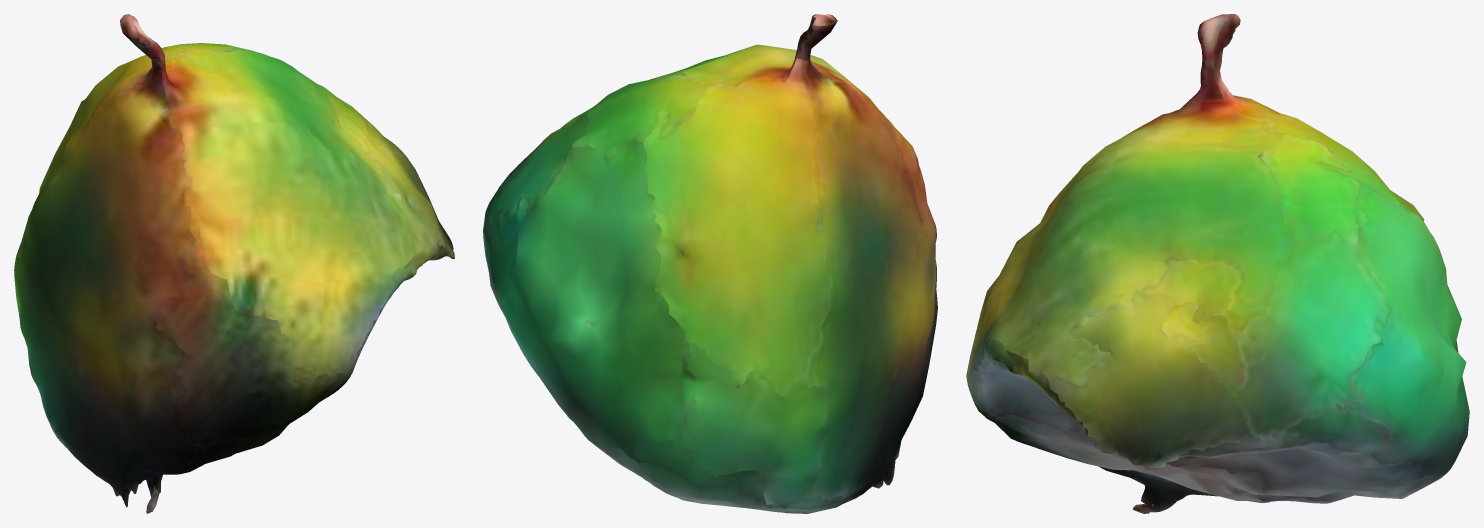
The model's file is 3_pear.glb.
The picture shows the model from 3 angles, left to right: view 1: azimuth 30°, elevation 25°; view 2: azimuth 150°, elevation 25°; view 3: azimuth 270°, elevation 25°; orthographic projection. The views are drawn at different scales.
Parts seen in each view (by area): view 1: 3_pear; view 2: 3_pear; view 3: 3_pear.
Part boxes in pixels (x1=…): 3_pear: x1=14, y1=14, x2=454, y2=513; 3_pear: x1=483, y1=14, x2=937, y2=513; 3_pear: x1=966, y1=14, x2=1469, y2=513.
Size of the model in its own units: 0.1845 by 0.2261 by 0.2021.
Materials: 1 (1 with a texture image).
